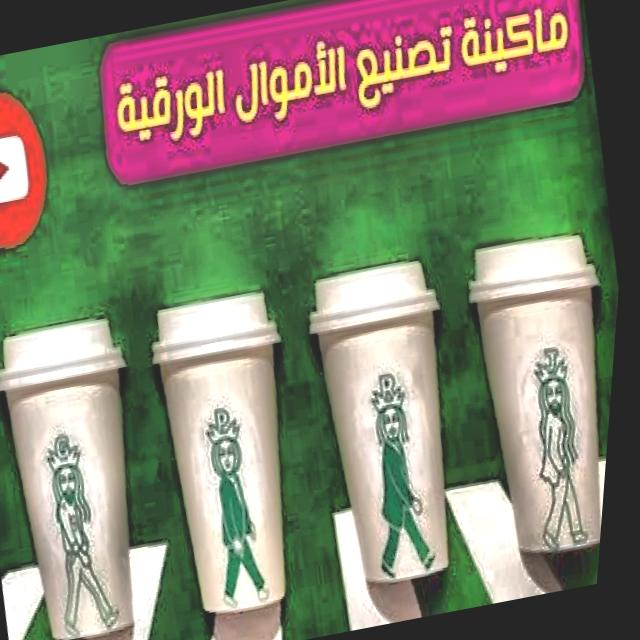Cup: (295, 295, 498, 606), (139, 316, 331, 626), (0, 337, 187, 640), (457, 260, 625, 571)
